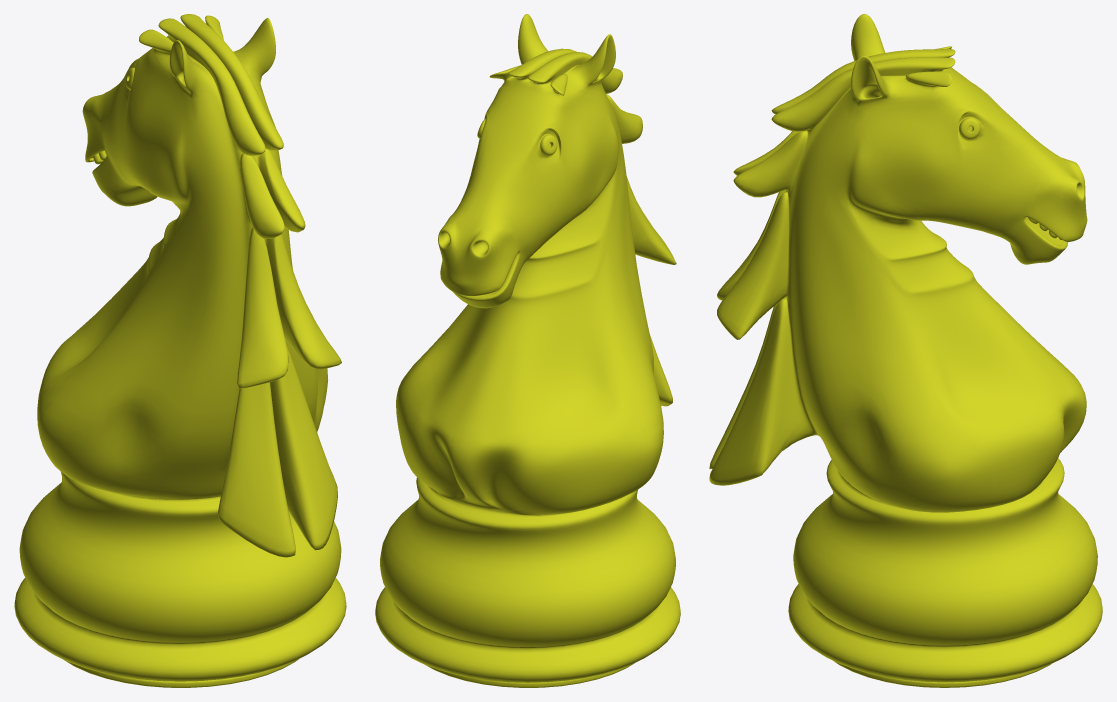
The model's file is yellowhorse.fbx.
The picture shows the model from 3 angles, left to right: view 1: azimuth 30°, elevation 25°; view 2: azimuth 150°, elevation 25°; view 3: azimuth 270°, elevation 25°; orthographic projection. The views are drawn at different scales.
Parts seen in each view (by area): view 1: Mesh.004; view 2: Mesh.004; view 3: Mesh.004.
Part boxes in pixels (x1=…): Mesh.004: x1=14, y1=14, x2=346, y2=687; Mesh.004: x1=375, y1=14, x2=680, y2=687; Mesh.004: x1=709, y1=14, x2=1102, y2=687.
Bounding box in the file's own units: 172 × 362 × 216.
